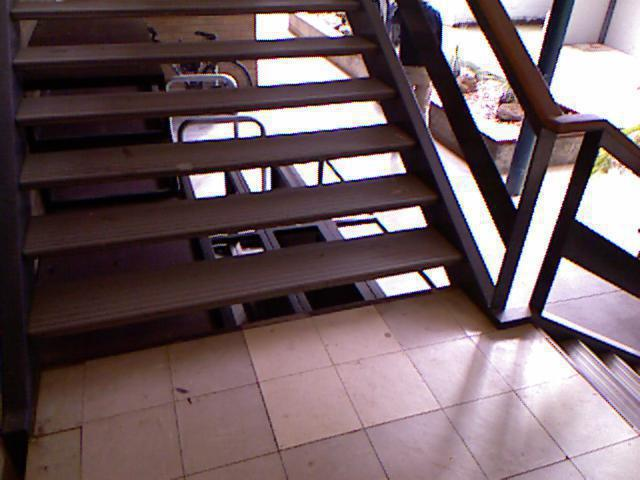Escaleras: (4, 18, 492, 393), (523, 120, 637, 451)
